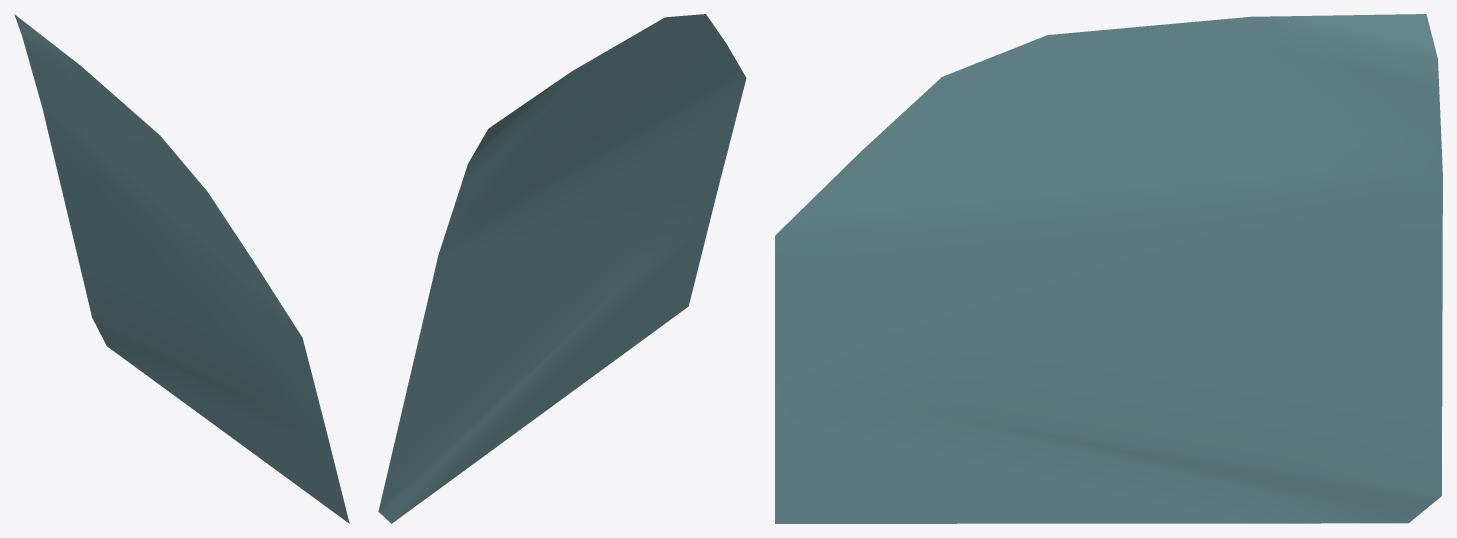
Rendered from VAN_1_Window_FL_Tessellate 1.fbx.
The picture shows the model from 3 angles, left to right: view 1: azimuth 30°, elevation 25°; view 2: azimuth 150°, elevation 25°; view 3: azimuth 270°, elevation 25°; orthographic projection. The views are drawn at different scales.
Visible parts, largest first — view 1: VAN_1_Window_FL_Tessellate; view 2: VAN_1_Window_FL_Tessellate; view 3: VAN_1_Window_FL_Tessellate.
Part boxes in pixels (x1,y1,x2,y2): VAN_1_Window_FL_Tessellate: (14,14,349,523); VAN_1_Window_FL_Tessellate: (378,14,746,523); VAN_1_Window_FL_Tessellate: (775,14,1442,523).
Size of the model in its own units: 5.83 by 22.39 by 29.78.
